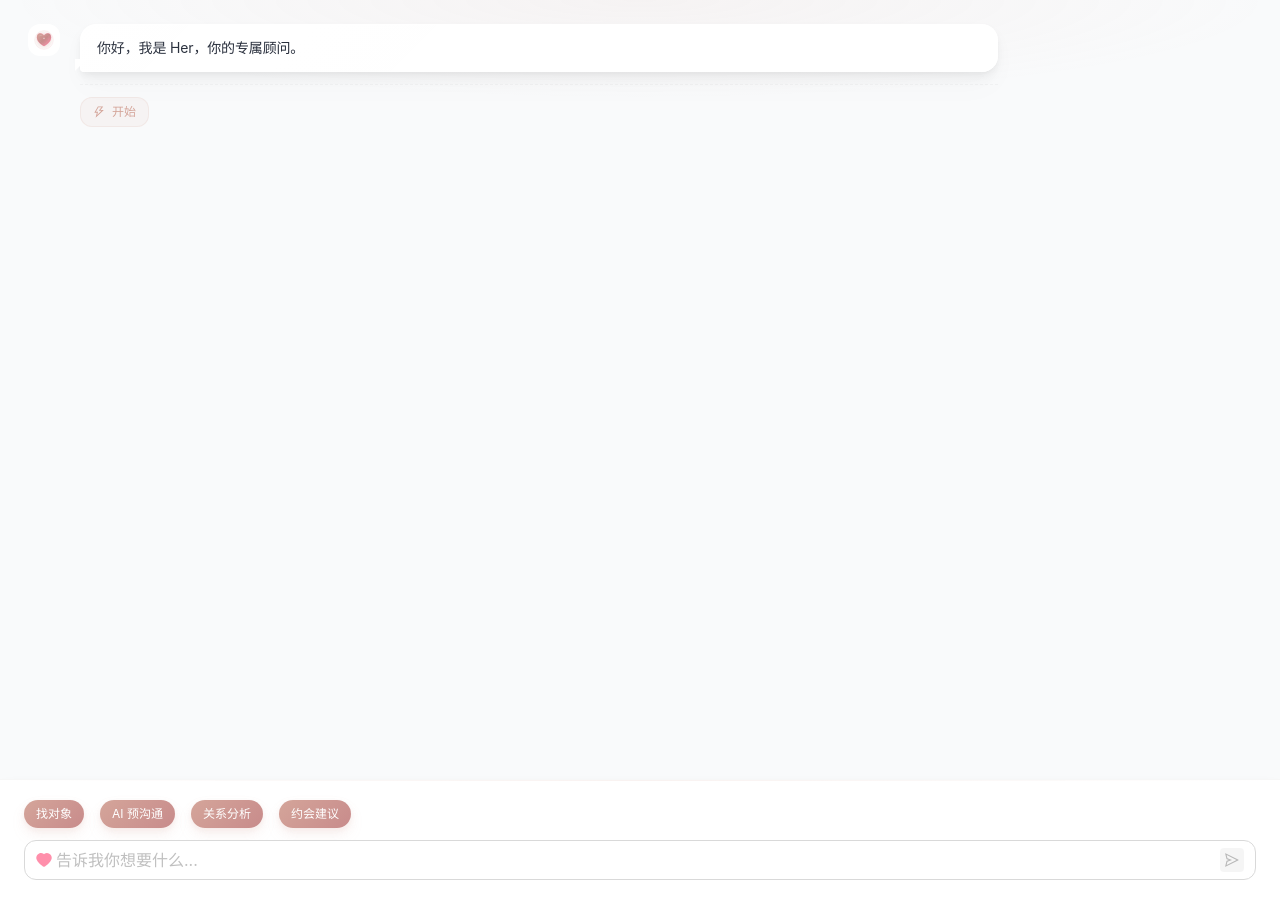
Test: ChatInterface Component › User Interactions › should enable send button when input has content
In the field with placeholder "告诉我你想要什么...": coordinates (636, 860) [56,848,1216,872], type "test message"
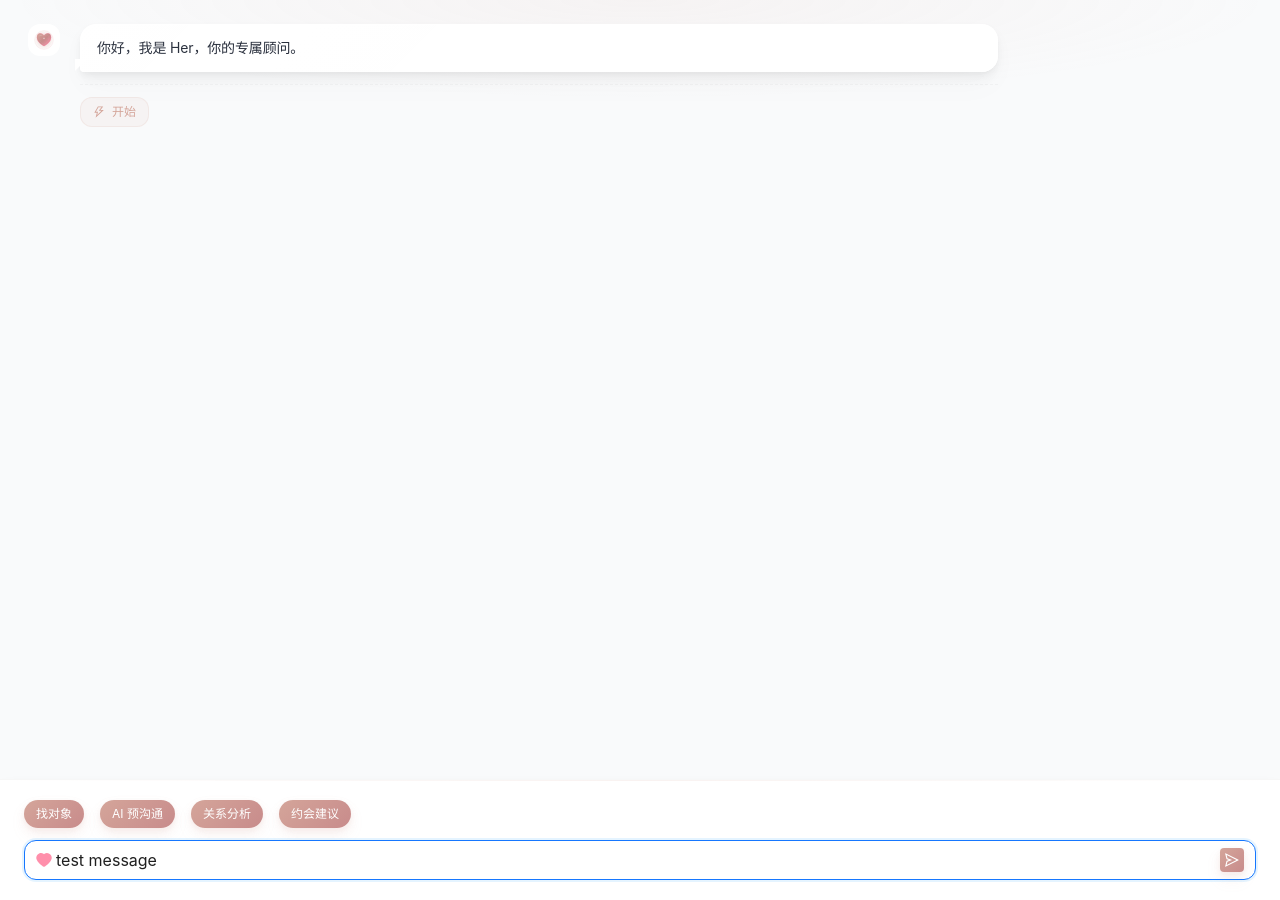
Expected: the button named "send" is enabled, [1220,848,1244,872]
